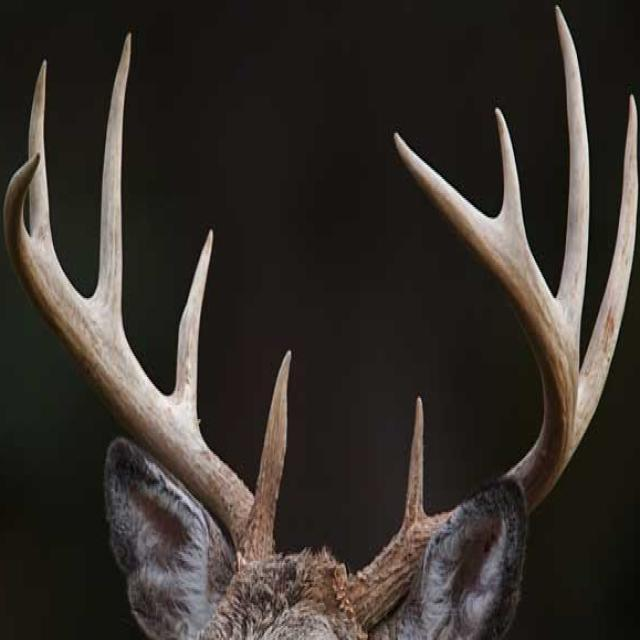L-G1: (403, 395, 428, 526)
L-G2: (571, 93, 638, 458)
L-G3: (553, 4, 589, 371)
L-G4: (494, 107, 526, 237)
R-F: (3, 152, 278, 581)
R-G1: (250, 348, 292, 533)
R-G2: (167, 227, 214, 429)
R-G3: (91, 31, 132, 334)
R-G4: (28, 58, 52, 244)
